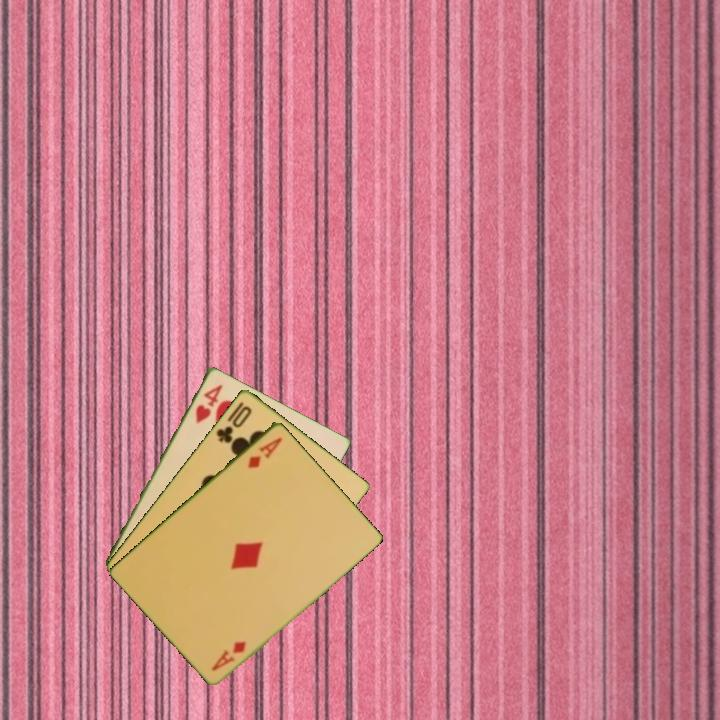10c: (212, 402, 254, 446)
4h: (192, 380, 226, 426)
Ad: (244, 433, 285, 471), (208, 637, 249, 674)
